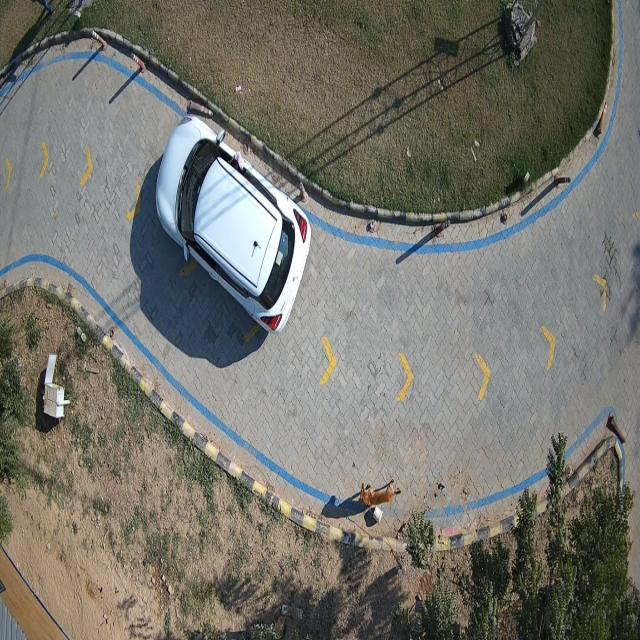car: (156, 116, 311, 331)
